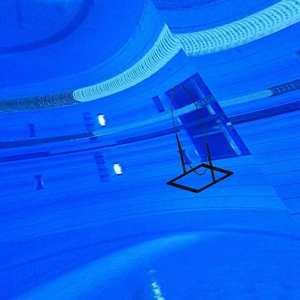circle: (166, 84, 234, 197)
